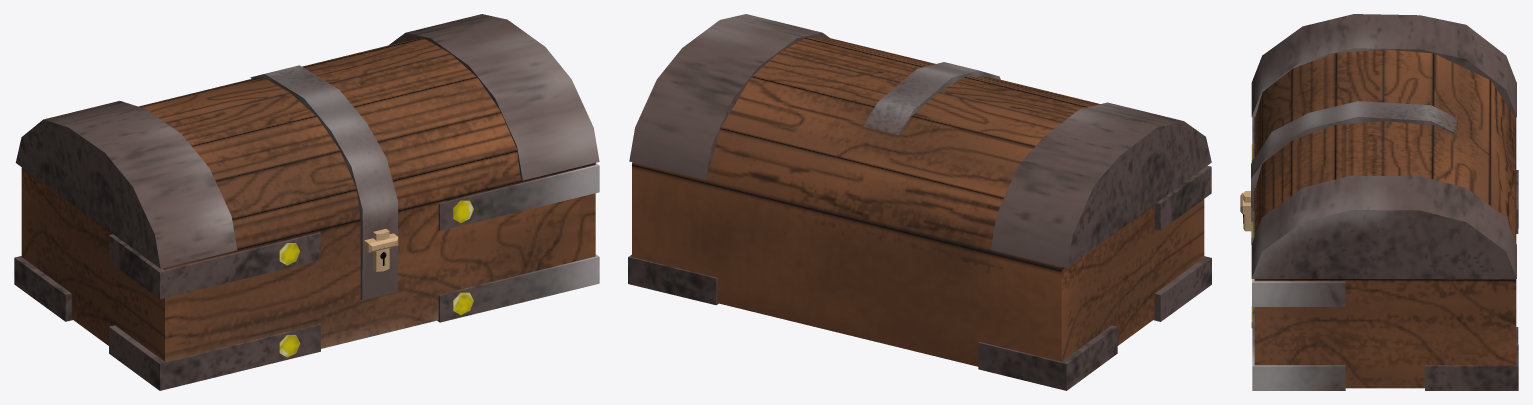
File: md_treasureChest.fbx
The picture shows the model from 3 angles, left to right: view 1: azimuth 30°, elevation 25°; view 2: azimuth 150°, elevation 25°; view 3: azimuth 270°, elevation 25°; orthographic projection. The views are drawn at different scales.
Parts seen in each view (by area): view 1: md_treasureChest; view 2: md_treasureChest; view 3: md_treasureChest.
Part boxes in pixels (x1,y1,x2,y2): md_treasureChest: [14, 14, 599, 390]; md_treasureChest: [628, 14, 1211, 390]; md_treasureChest: [1240, 14, 1518, 390].
Bounding box in the file's own units: 70.05 × 30.57 × 41.97.
1 material, 1 textured.
